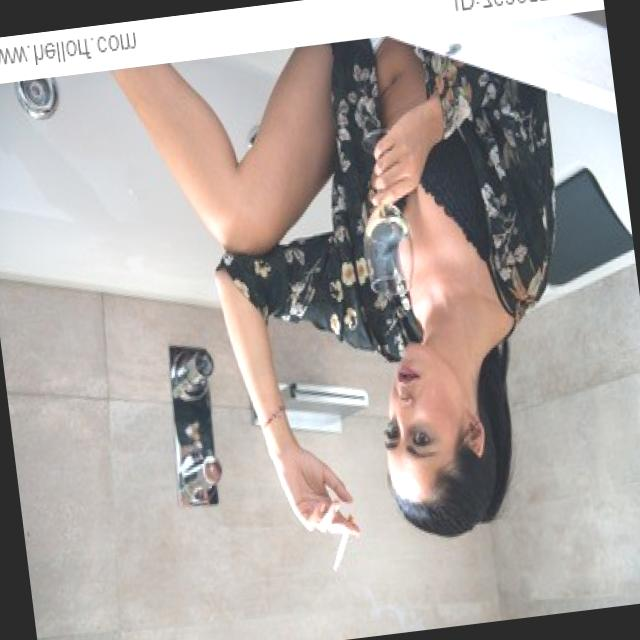cigarette: (327, 511, 362, 574)
